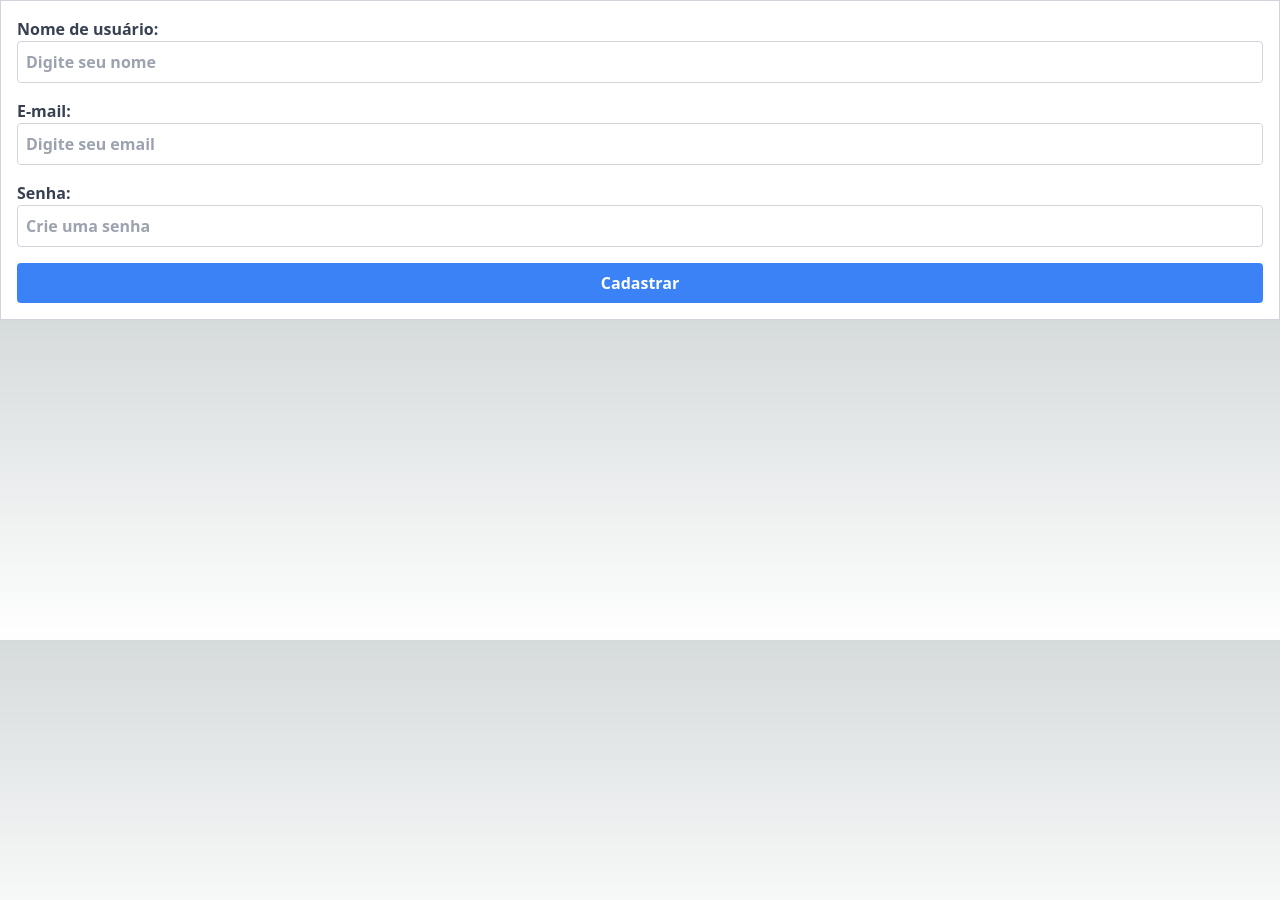
Test: SignUpForm Component › displays error messages for invalid input
The image size is (1280, 900).
Click the button "Cadastrar" at point(640, 283), box [17,263,1263,303]
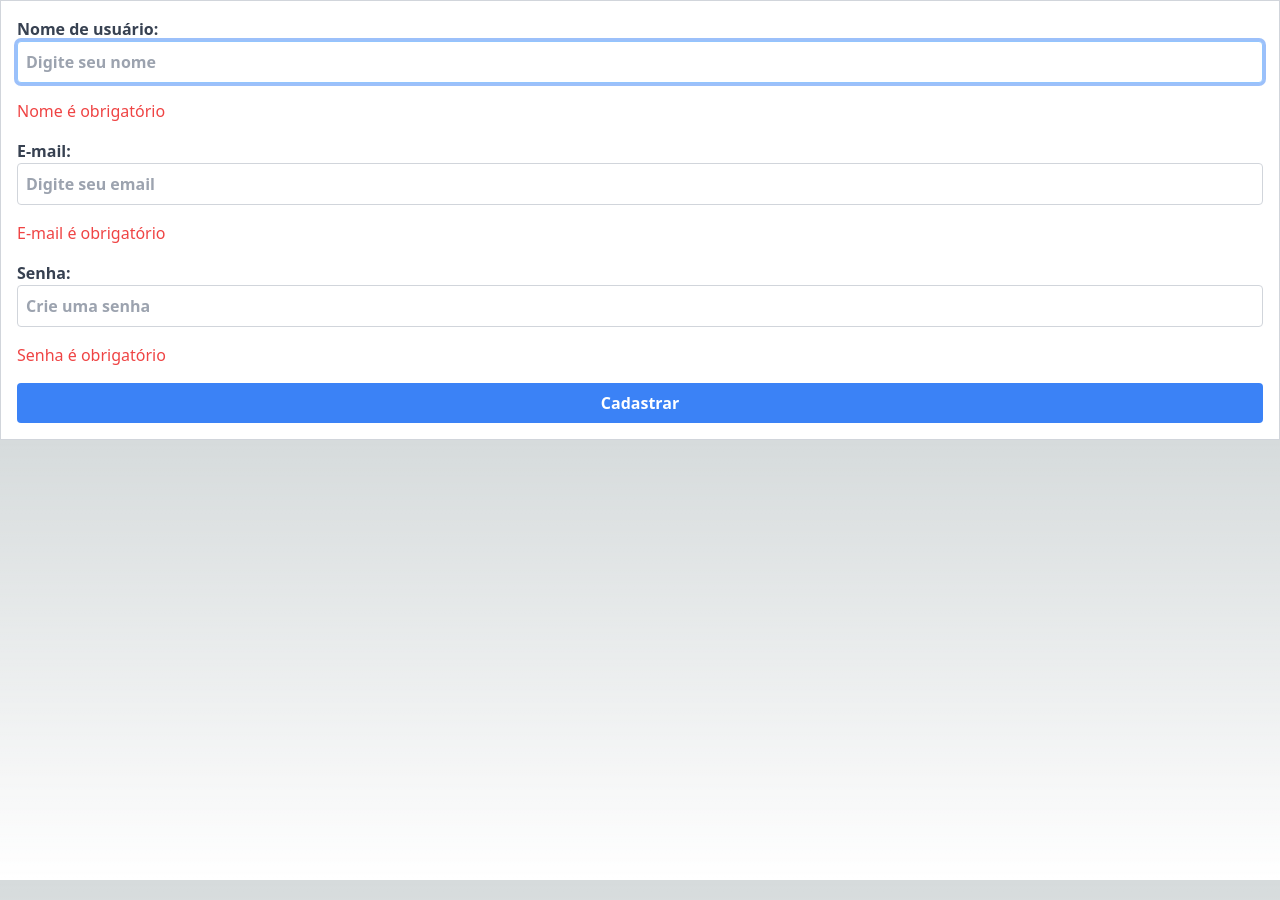
Expected: the text "Nome é obrigatório" is shown, [17,100,165,122]
Expected: the text "E-mail é obrigatório" is shown, [17,222,166,244]
Expected: the text "Senha é obrigatório" is shown, [17,344,166,366]
